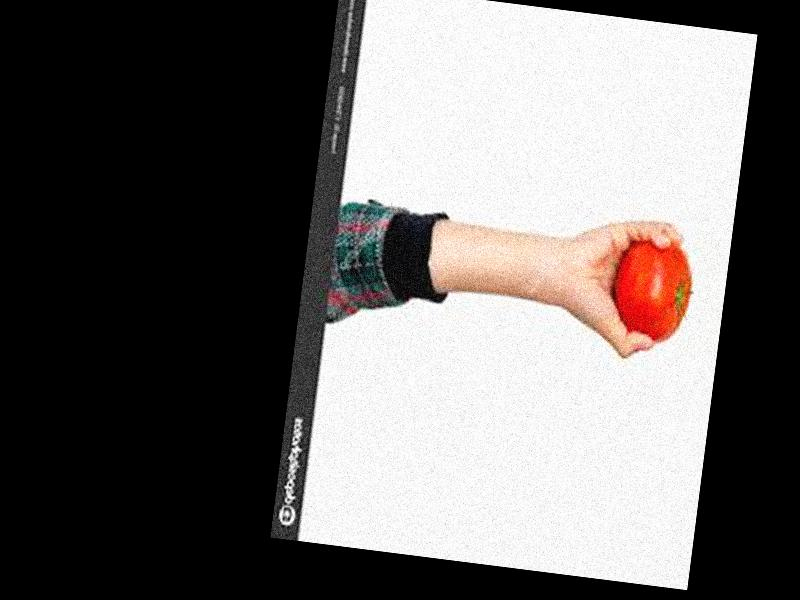Tomato: (607, 233, 699, 346)
